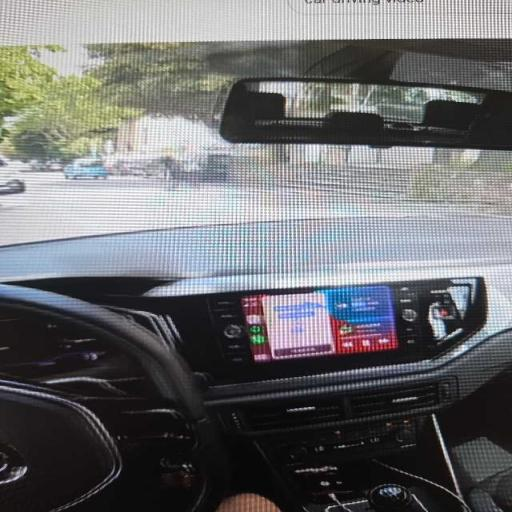car: (0, 34, 511, 511), (64, 158, 108, 178), (0, 161, 25, 194), (44, 161, 64, 171)
lane: (0, 173, 463, 244)
person: (217, 494, 280, 511)
